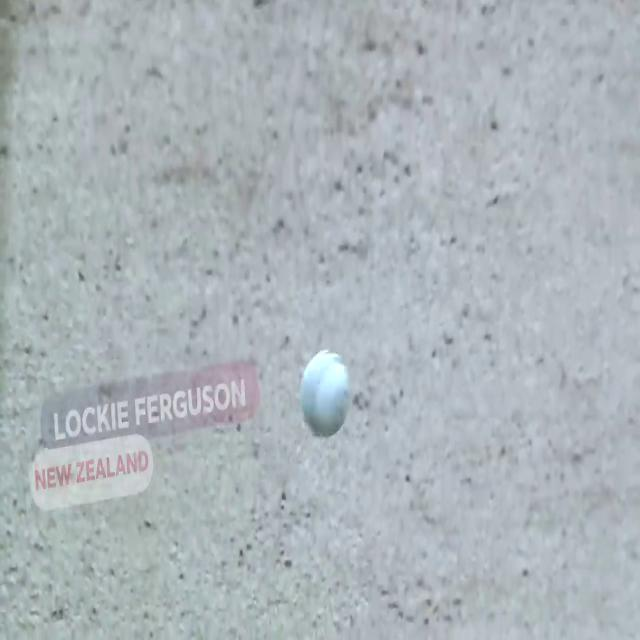ball: (298, 342, 354, 444)
